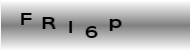6: (85, 25, 98, 39)
F: (20, 12, 33, 26)
R: (41, 16, 56, 30)
l: (68, 20, 73, 34)
p: (107, 17, 122, 32)
